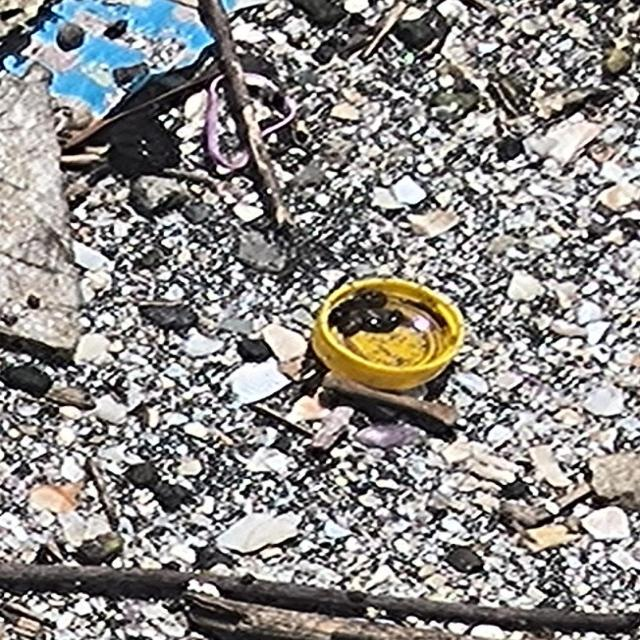plastic_waste: (308, 276, 468, 394)
